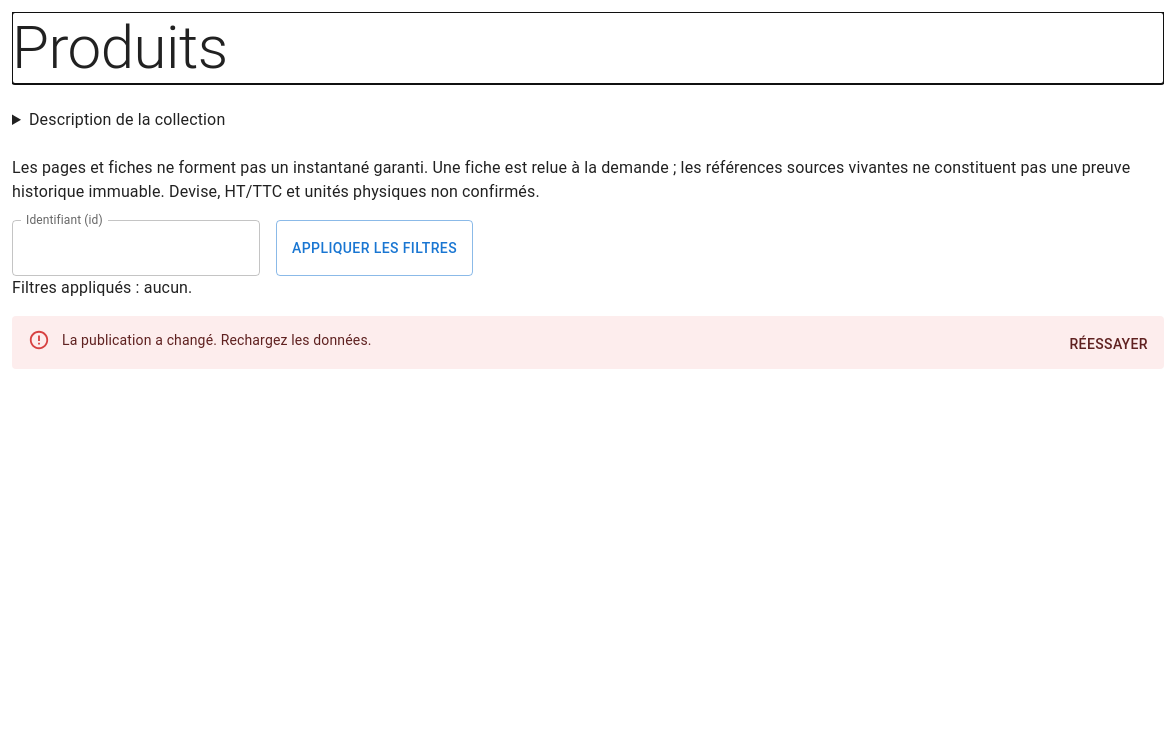
it: hides data on publication change and permits manual retry
Expected: the text "La publication a changé. Rechargez les données." is shown, [62,332,372,348]
Click the button "Réessayer".
click(1109, 344)  # box [1061,326,1156,362]
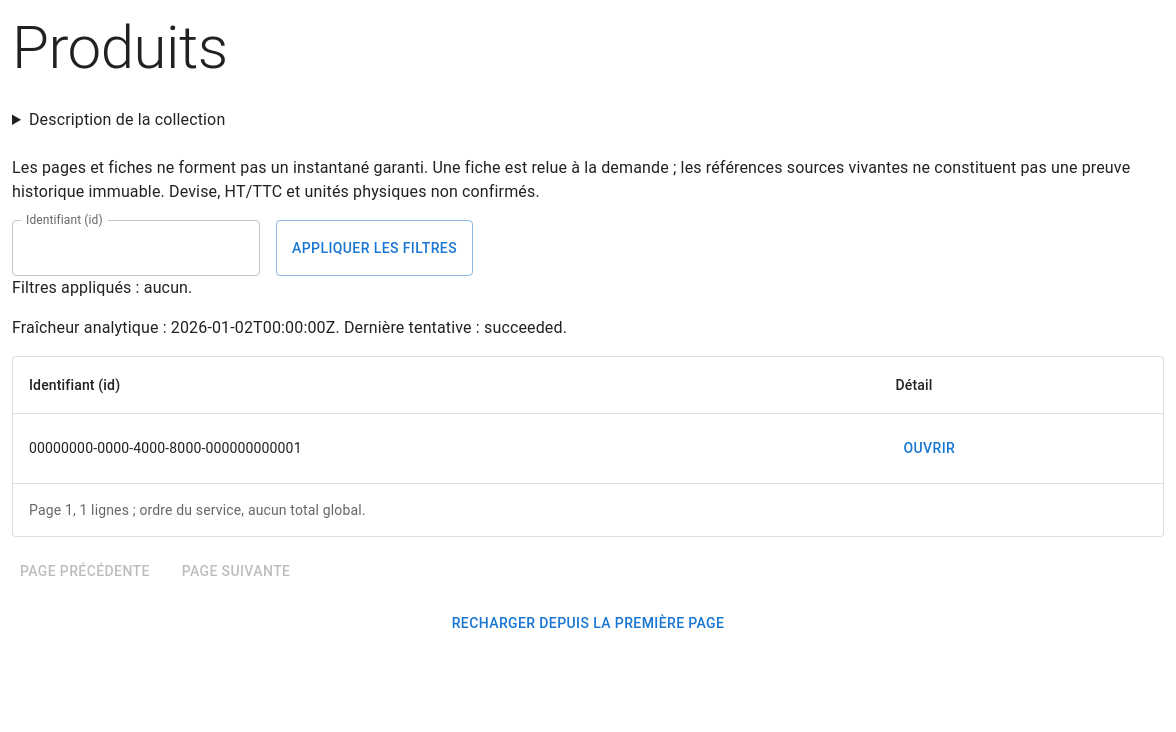
Expected: the button with aria-label "Ouvrir la ligne 1" is shown, [895,430,963,466]
